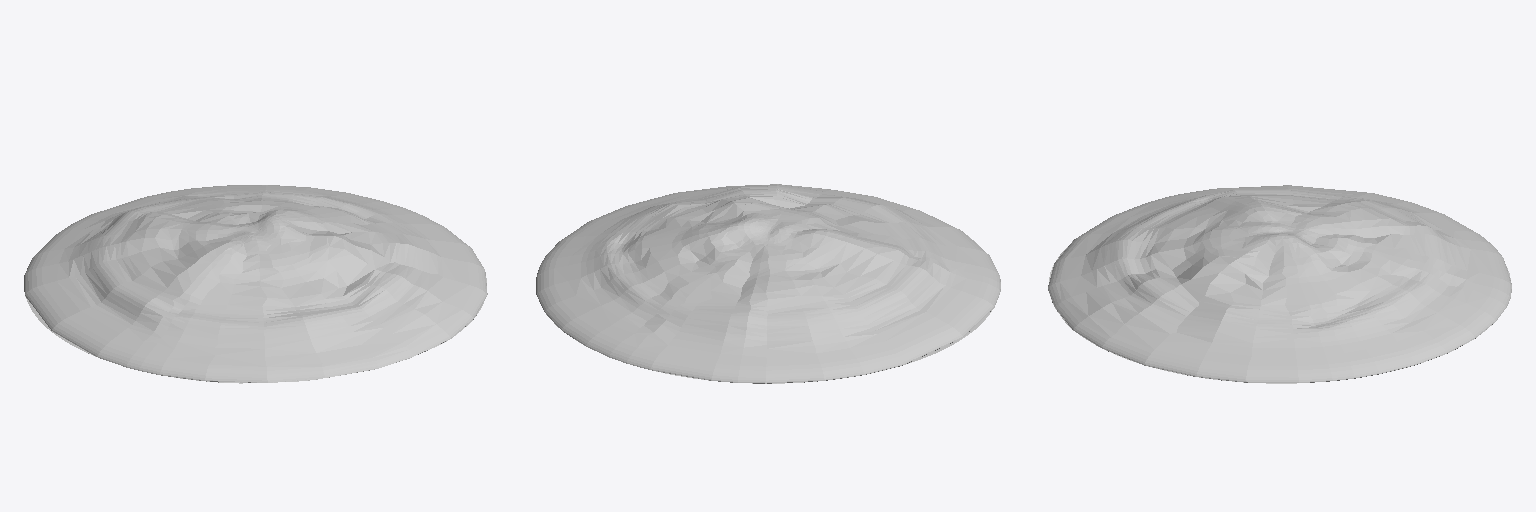
Rendered from mud.obj.
3 renders of one model, left to right at view 1: azimuth 30°, elevation 25°; view 2: azimuth 150°, elevation 25°; view 3: azimuth 270°, elevation 25°, orthographic.
Visible parts, largest first — view 1: Ground_Dirt Plant_Model; view 2: Ground_Dirt Plant_Model; view 3: Ground_Dirt Plant_Model.
Boxes of the visible parts, box(x1,y1,x2,y2) form: Ground_Dirt Plant_Model: box(24, 185, 487, 383); Ground_Dirt Plant_Model: box(536, 184, 1000, 383); Ground_Dirt Plant_Model: box(1048, 185, 1511, 383).
Bounding box in the file's own units: 17.73 × 2.53 × 17.78.